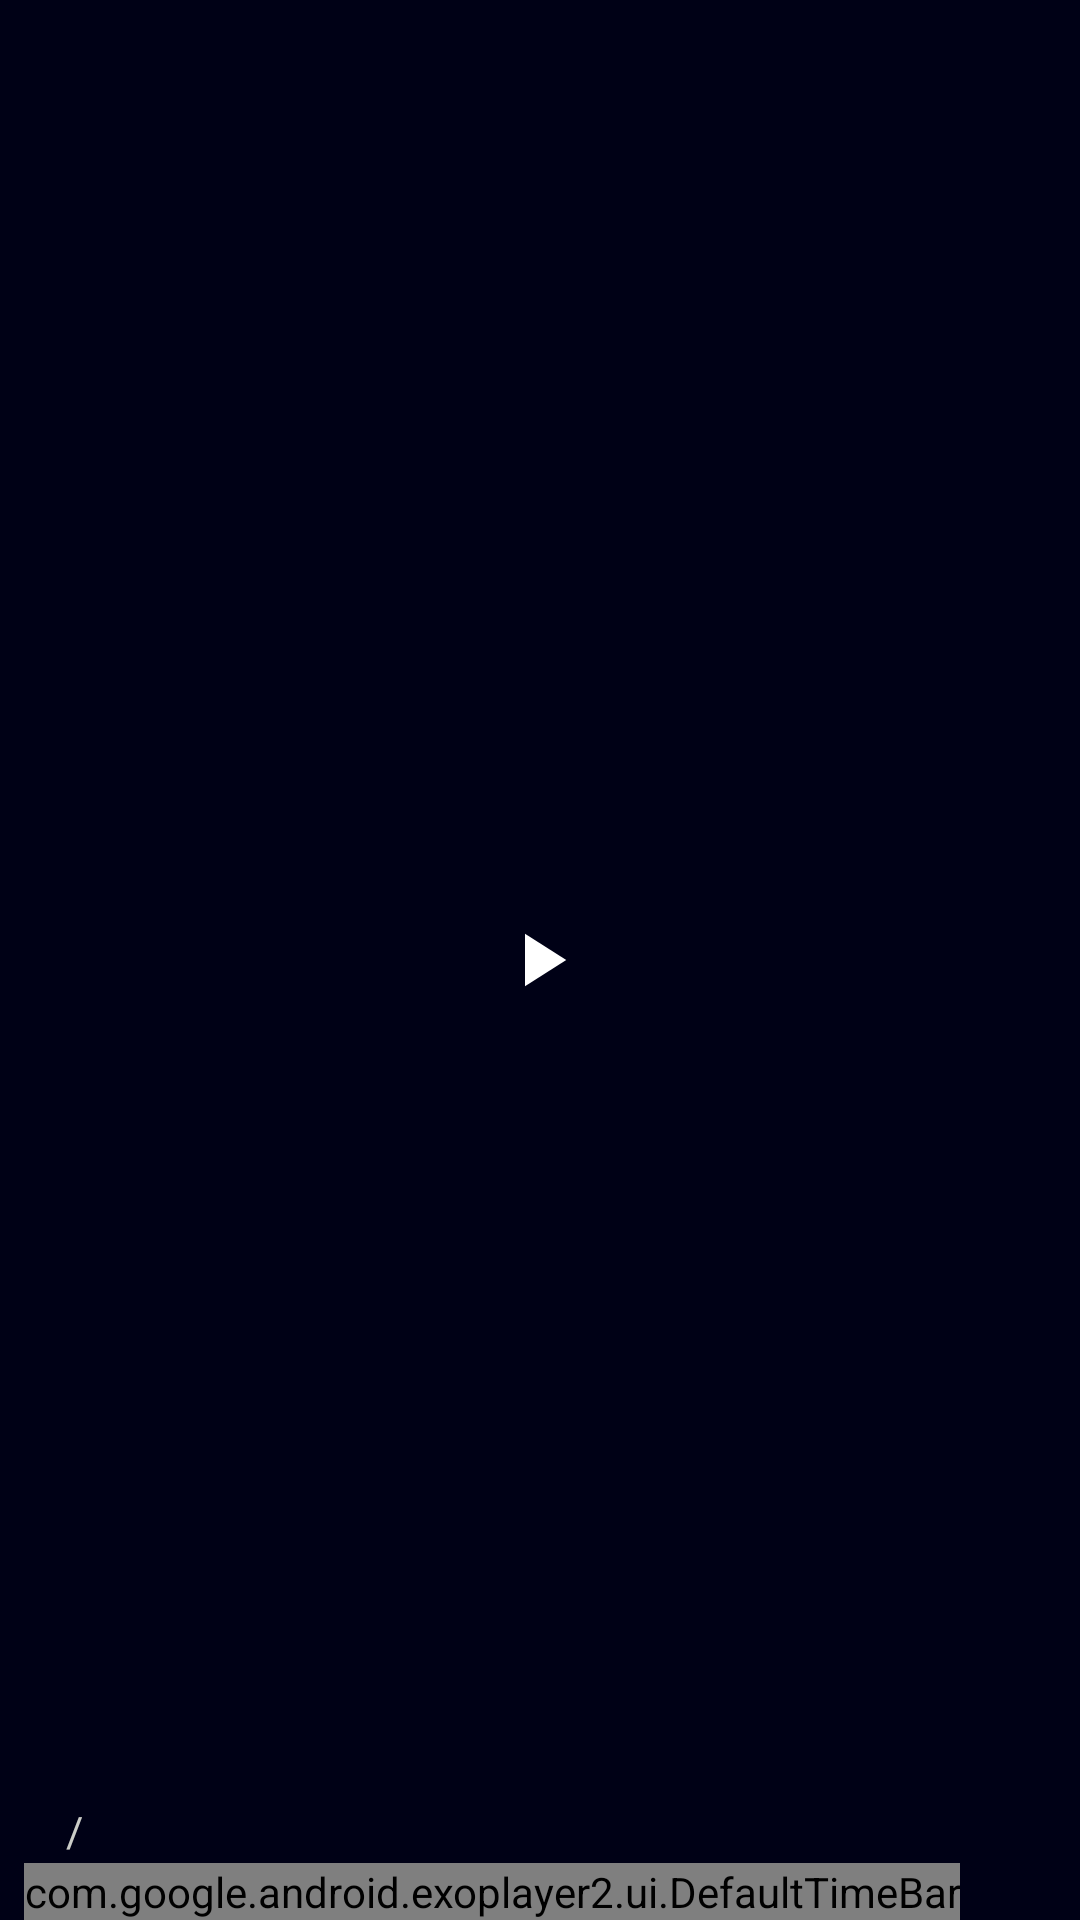

Screen size 1080 x 1920. Icon name, then its center in pixels as point (x, y):
play arrow: point (545, 960)
